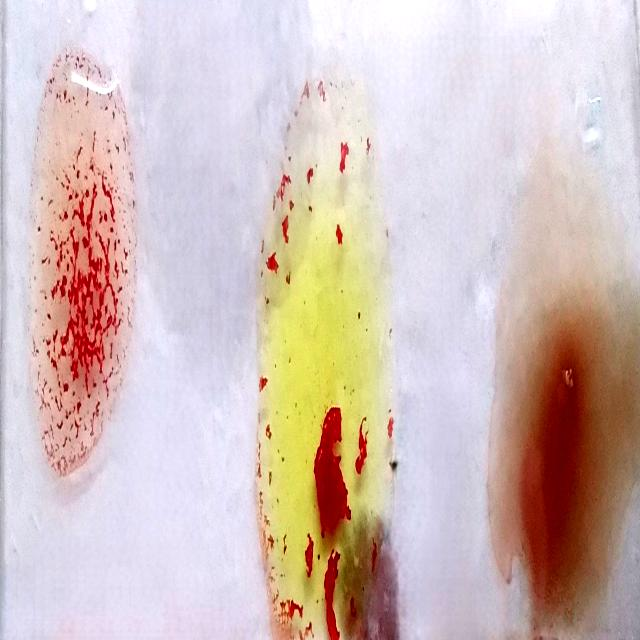B: (263, 87, 393, 640)
D: (35, 57, 125, 480)
